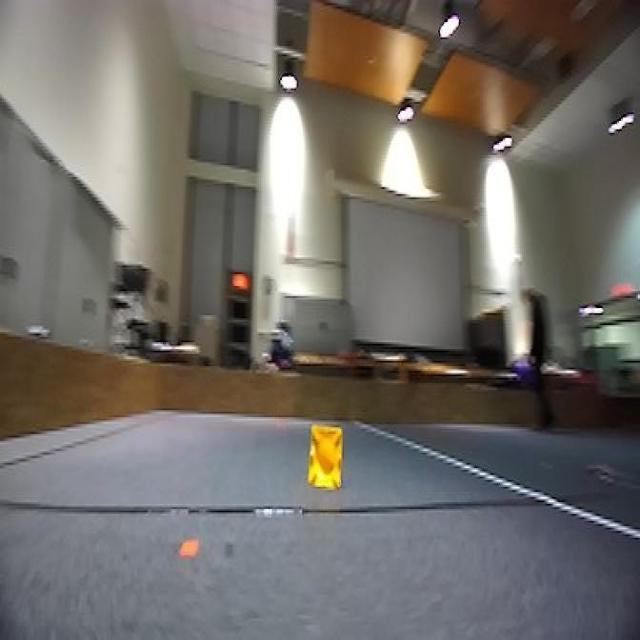frc_cone: (302, 419, 351, 495)
